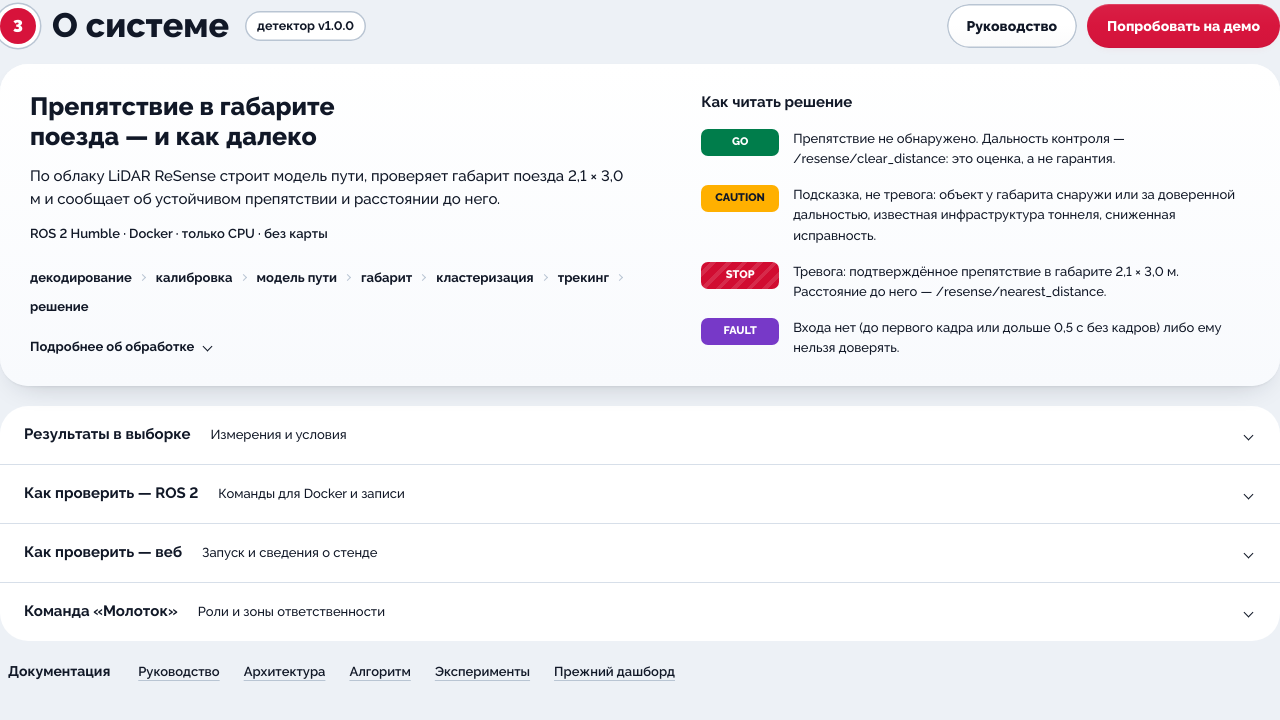
О системе › shows this stand from /api/system: versions and features
Click the heading "Как проверить — веб".
click(201, 552)  # box [24,543,377,561]
(page scrolled)
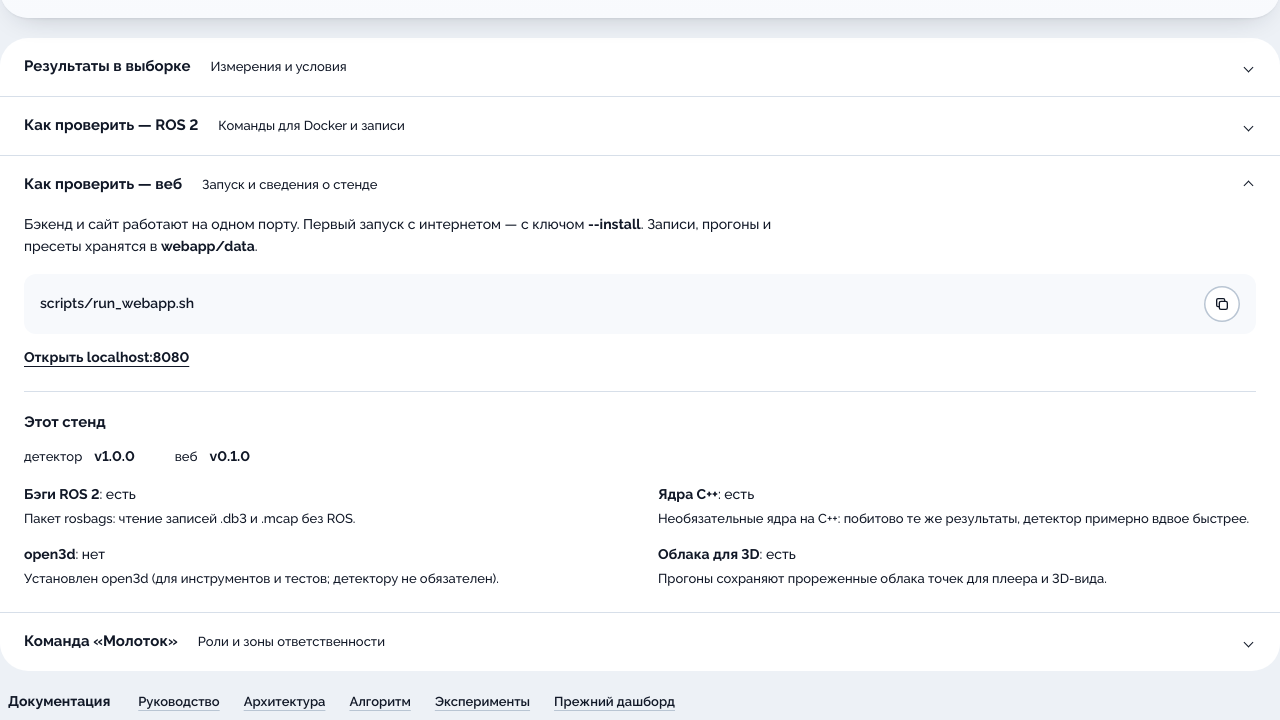
Check: the text ": нет" is shown, box [75,546,105,562]
